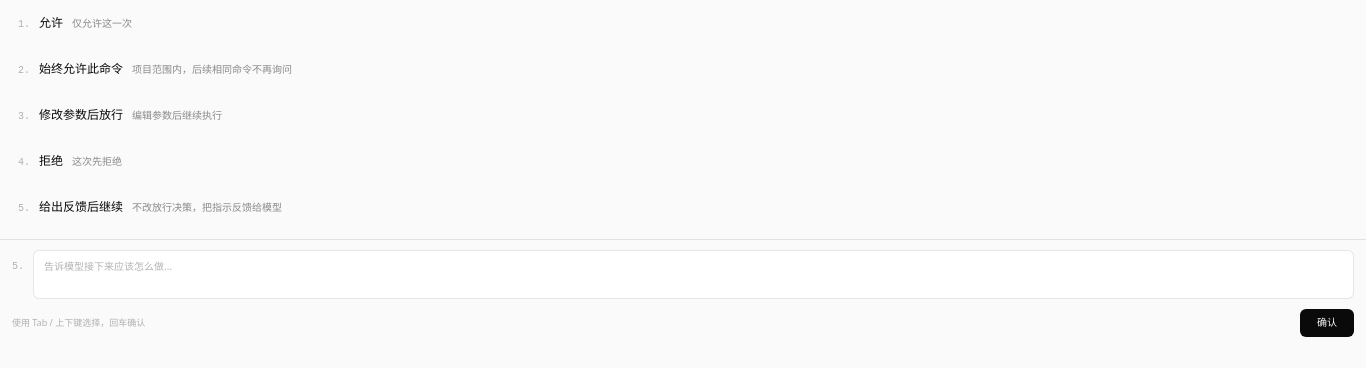
Test case: DecisionForm · 提交中禁用与错误呈现 › 网络失败（NETWORK_ERROR 合成码）同样就地展示
This screenshot has width=1366, height=368.
Click the button with test id "decision-option-reject": (97, 161) [6,143,1360,187]
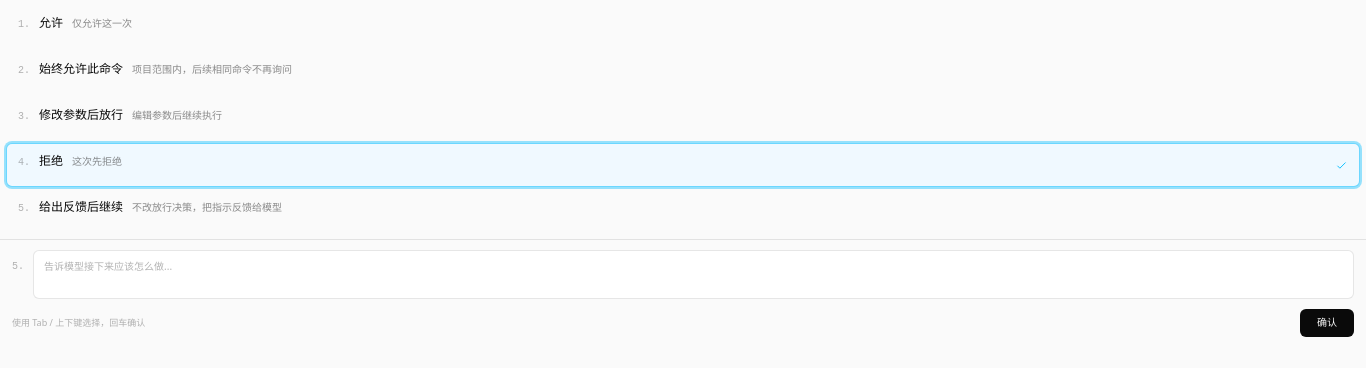
Click the button with test id "decision-submit": (1327, 323) [1300,309,1354,337]
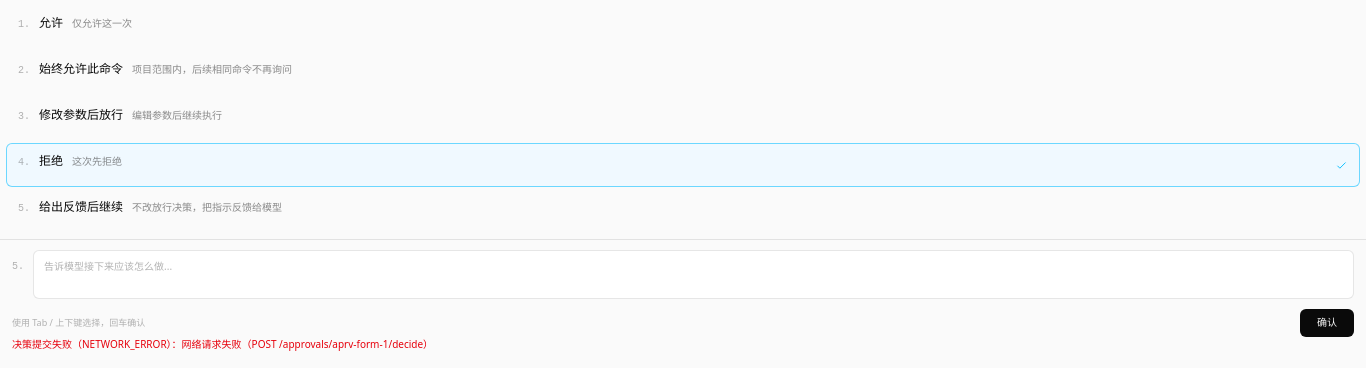
Now the message with test id "decision-error" shows "决策提交失败（NETWORK_ERROR）：", box [12,337,433,351]
